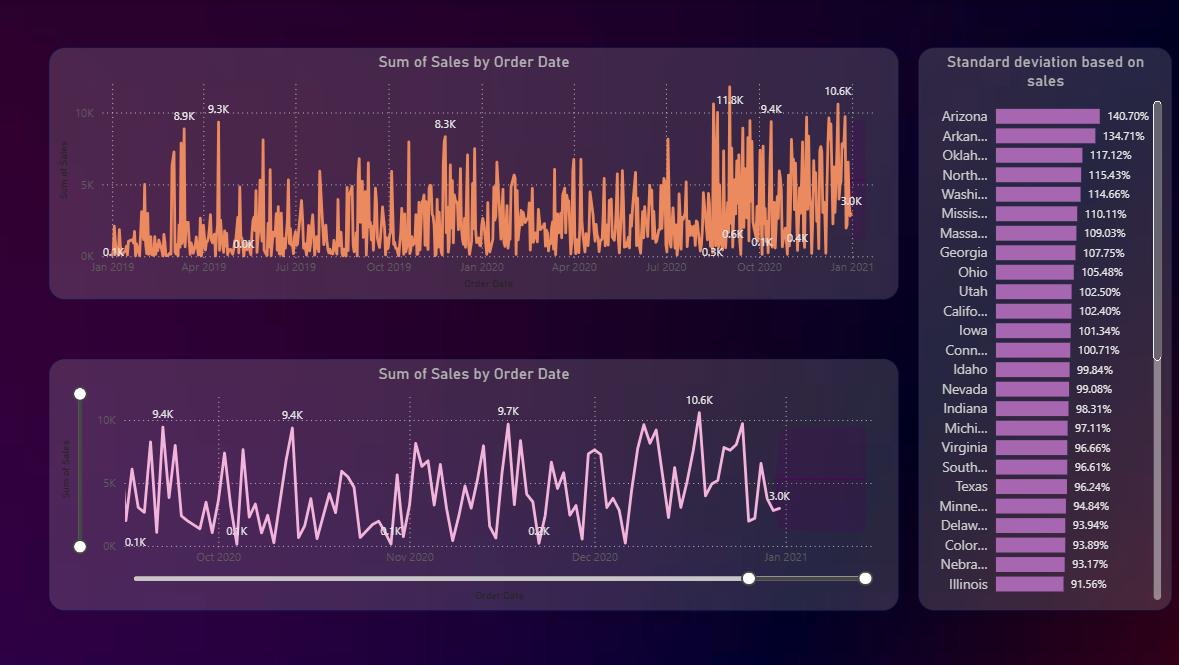

This screenshot's page, from the dashboard's own definition file:
{"tool":"powerbi","page":{"name":"Forecasting","canvas":[1280,720],"ordinal":1},"visuals":[{"type":"lineChart","fields":{"Y":["Sum(SuperStore_Sales_Dataset.Sales)"],"Category":["SuperStore_Sales_Dataset.Order Date"]},"box":[59.7,50.9,911.5,270.5],"z":0},{"type":"lineChart","fields":{"Y":["Sum(SuperStore_Sales_Dataset.Sales)"],"Category":["SuperStore_Sales_Dataset.Order Date"]},"box":[59.7,384.6,911.5,270.5],"z":1},{"type":"clusteredBarChart","title":"Standard deviation based on sales","fields":{"Category":["SuperStore_Sales_Dataset.State"],"Y":["Sum(SuperStore_Sales_Dataset.Avgdelivery)"]},"box":[992.3,50.9,272.2,604.1],"z":2}]}

Visuals, with their boxes in screenshot pixels (x1, y1, x2, y2), scaled from the page's 1280x720 canvas onto the 1179x665 screenshot:
lineChart - Sum(SuperStore_Sales_Dataset.Sales) x SuperStore_Sales_Dataset.Order Date: locate(55, 47, 895, 297)
lineChart - Sum(SuperStore_Sales_Dataset.Sales) x SuperStore_Sales_Dataset.Order Date: locate(55, 355, 895, 605)
"Standard deviation based on sales" clusteredBarChart: locate(914, 47, 1165, 605)
